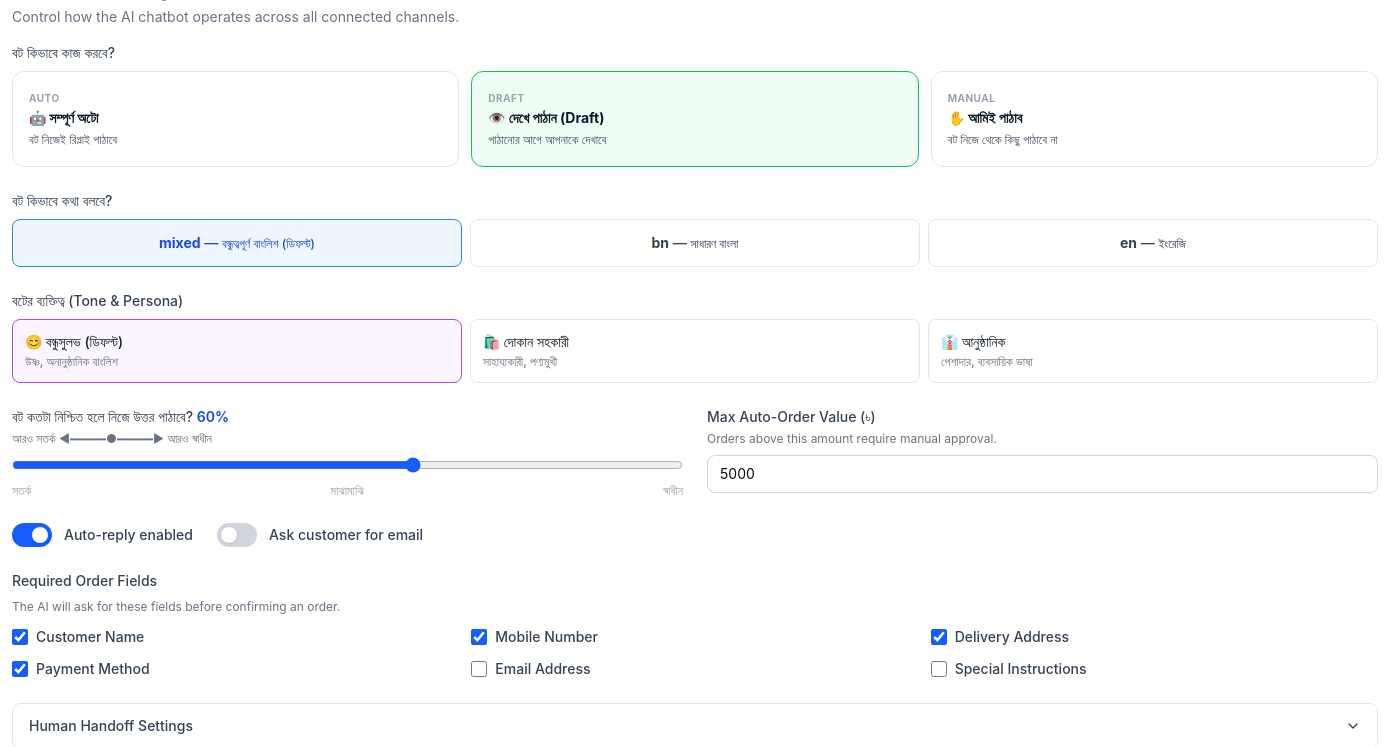
Test: AISettingsForm › expands handoff settings section on click
Click the button "Human Handoff Settings" at coordinates (111, 726), box [13, 704, 1377, 746]
(page scrolled)
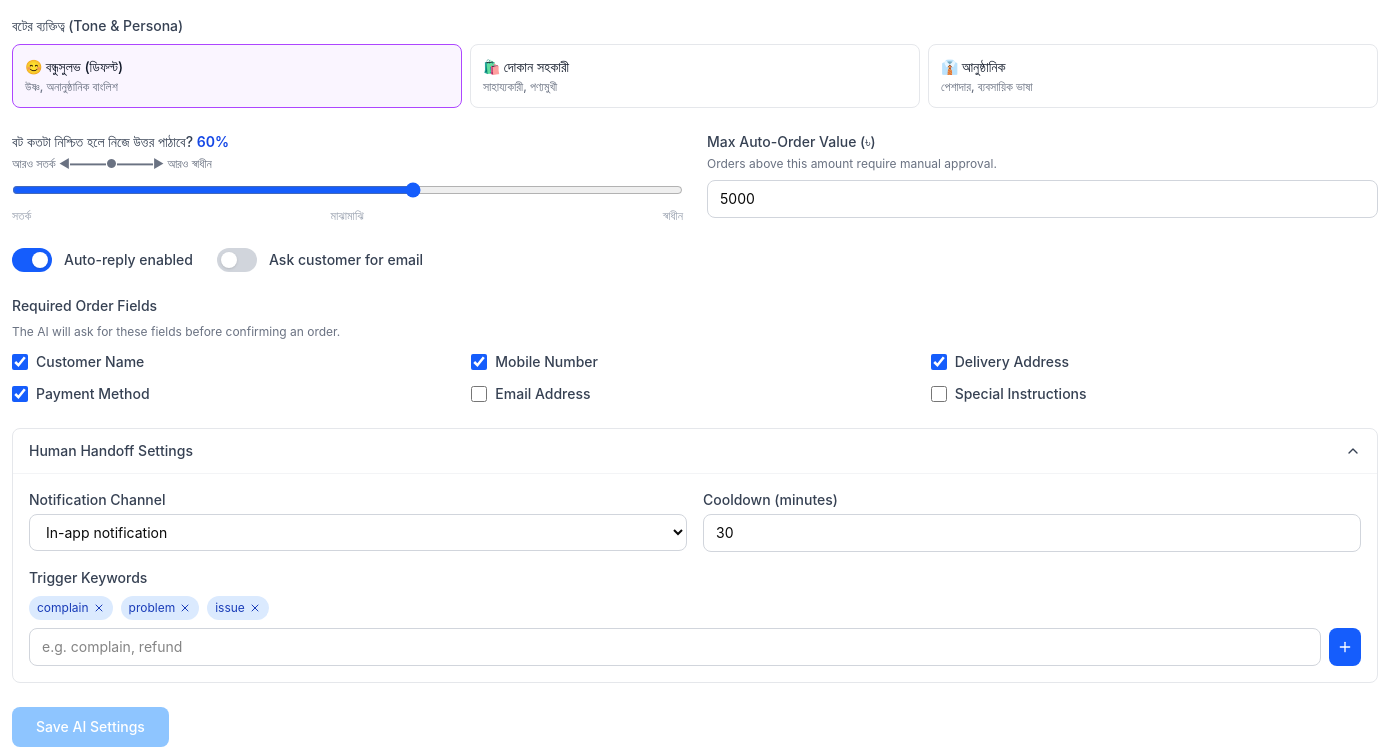
Now the dropdown labelled "Notification Channel" is shown, box [29, 514, 687, 551]
Now the number field labelled "Cooldown (minutes)" is shown, box [703, 514, 1361, 552]
